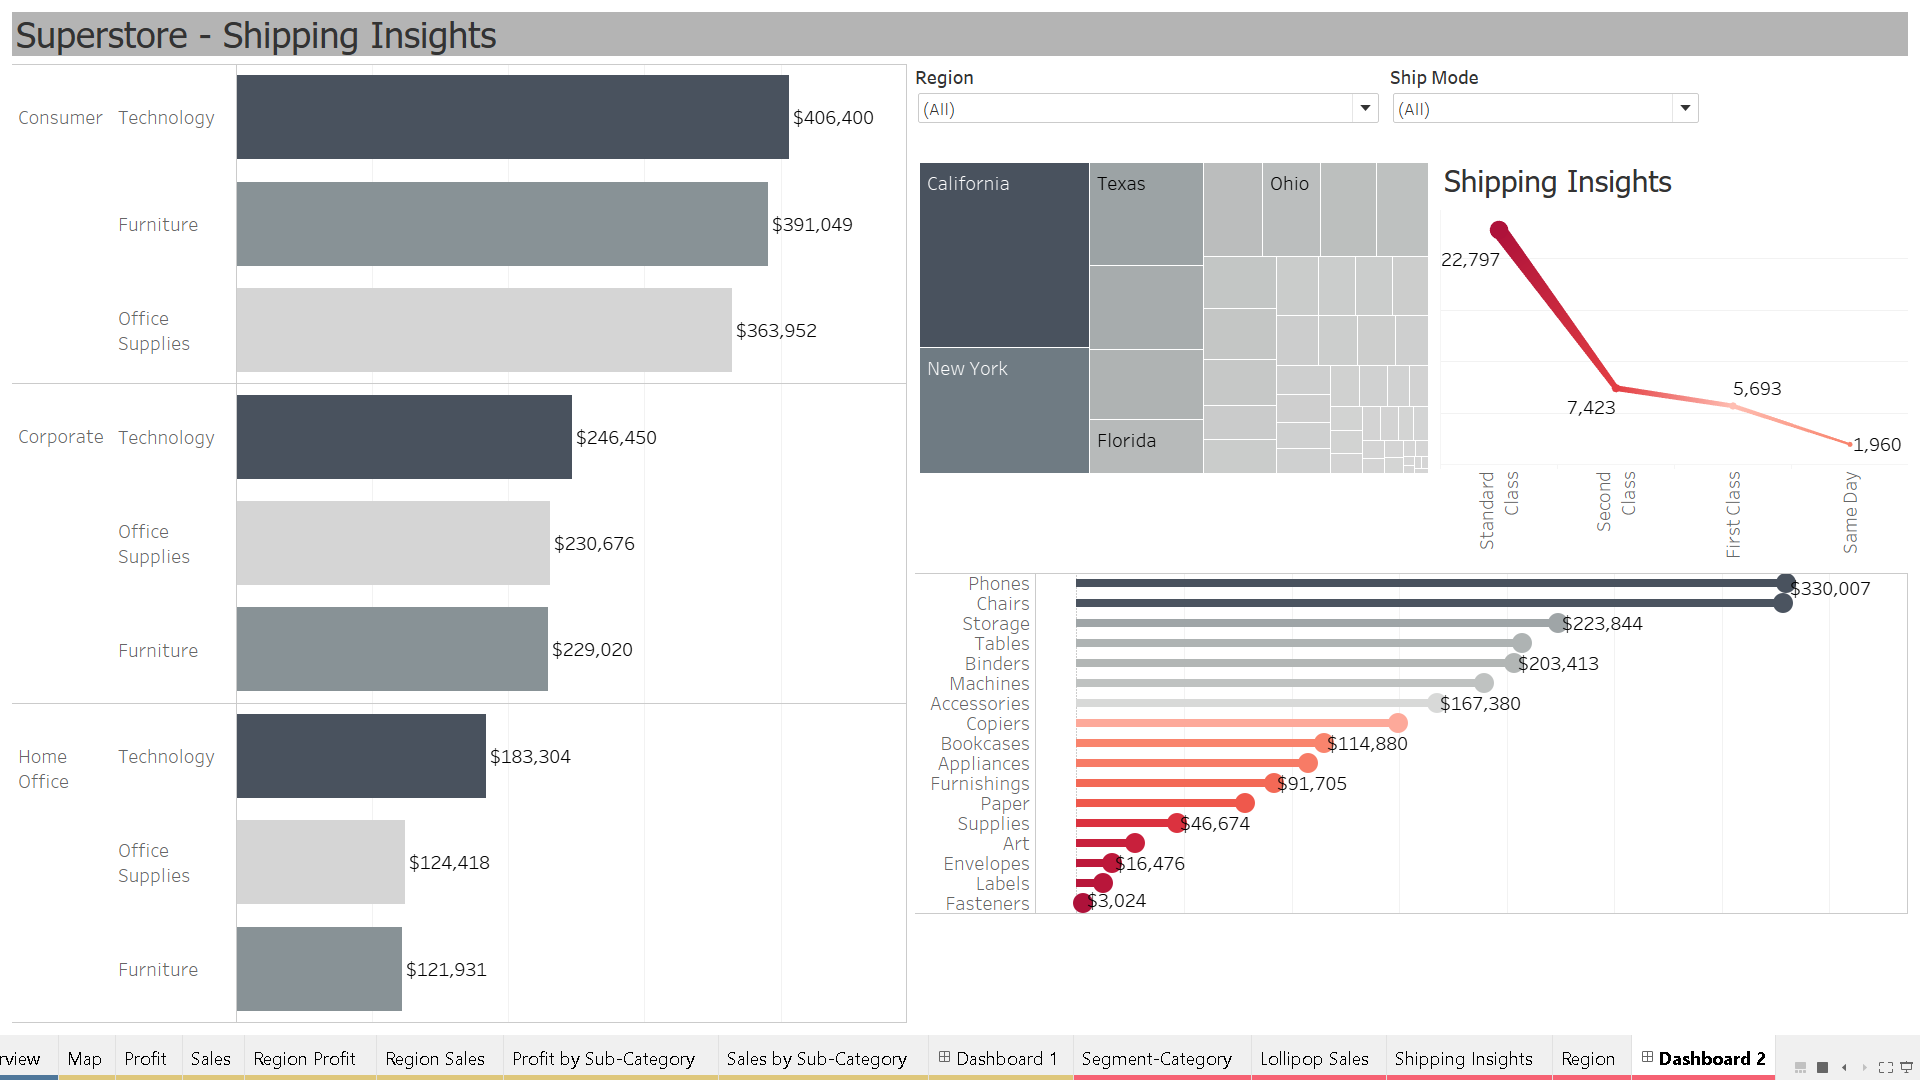

The dashboard page shown, as its layout file describes it:
{"tool":"tableau","page":{"name":"Dashboard 2","canvas":[1000,1000],"units":"permille","ordinal":1},"visuals":[{"type":"worksheet","box":[0,0,1000,1000]},{"type":"worksheet","param":"vert","box":[5,9.8,990,980.4]},{"type":"worksheet","box":[5,9.8,990,63.6]},{"type":"worksheet","param":"horz","box":[5,73.4,990,916.9]},{"type":"worksheet","box":[5,73.4,990,916.9]},{"type":"worksheet","title":"Segment-Category","mark":"Bar","rows":["Segment","Category"],"cols":["Sales"],"box":[5,73.4,469.4,916.9]},{"type":"worksheet","param":"horz","box":[474.4,73.4,520.6,89.1]},{"type":"worksheet","title":"Region","mark":"Automatic","param":"[federated.1cpo31o1rp0b5b1baj65f1iec43t].[none:Region:nk]","box":[474.4,73.4,296.1,89.1]},{"type":"worksheet","title":"Shipping Insights","mark":"Line","rows":["Quantity"],"cols":["Ship Mode"],"param":"[federated.1cpo31o1rp0b5b1baj65f1iec43t].[none:Ship Mode:nk]","box":[770.6,73.4,199.5,89.1]},{"type":"worksheet","title":"Region","mark":"Automatic","box":[474.4,162.4,273,393.8]},{"type":"worksheet","title":"Shipping Insights","mark":"Line","rows":["Quantity"],"cols":["Ship Mode"],"box":[747.5,162.4,247.6,393.8]},{"type":"worksheet","title":"Lollipop Sales","mark":"Automatic","rows":["Sub-Category"],"cols":["Sales","Sales"],"box":[474.4,556.2,520.6,434]}]}

Visuals, with their boxes on the dashboard's canvas, which has no fixed pixel size, in thousandths of its width and height (x1, y1, x2, y2). These are canvas units, not pixel positions in the 1920x1080 screenshot, which may show the page scaled, cropped or inside an application window:
worksheet: box(0, 0, 1000, 1000)
worksheet: box(5, 10, 995, 990)
worksheet: box(5, 10, 995, 73)
worksheet: box(5, 73, 995, 990)
worksheet: box(5, 73, 995, 990)
"Segment-Category" worksheet (Bar marks): box(5, 73, 474, 990)
worksheet: box(474, 73, 995, 162)
"Region" worksheet: box(474, 73, 770, 162)
"Shipping Insights" worksheet (Line marks): box(771, 73, 970, 162)
"Region" worksheet: box(474, 162, 747, 556)
"Shipping Insights" worksheet (Line marks): box(748, 162, 995, 556)
"Lollipop Sales" worksheet: box(474, 556, 995, 990)
